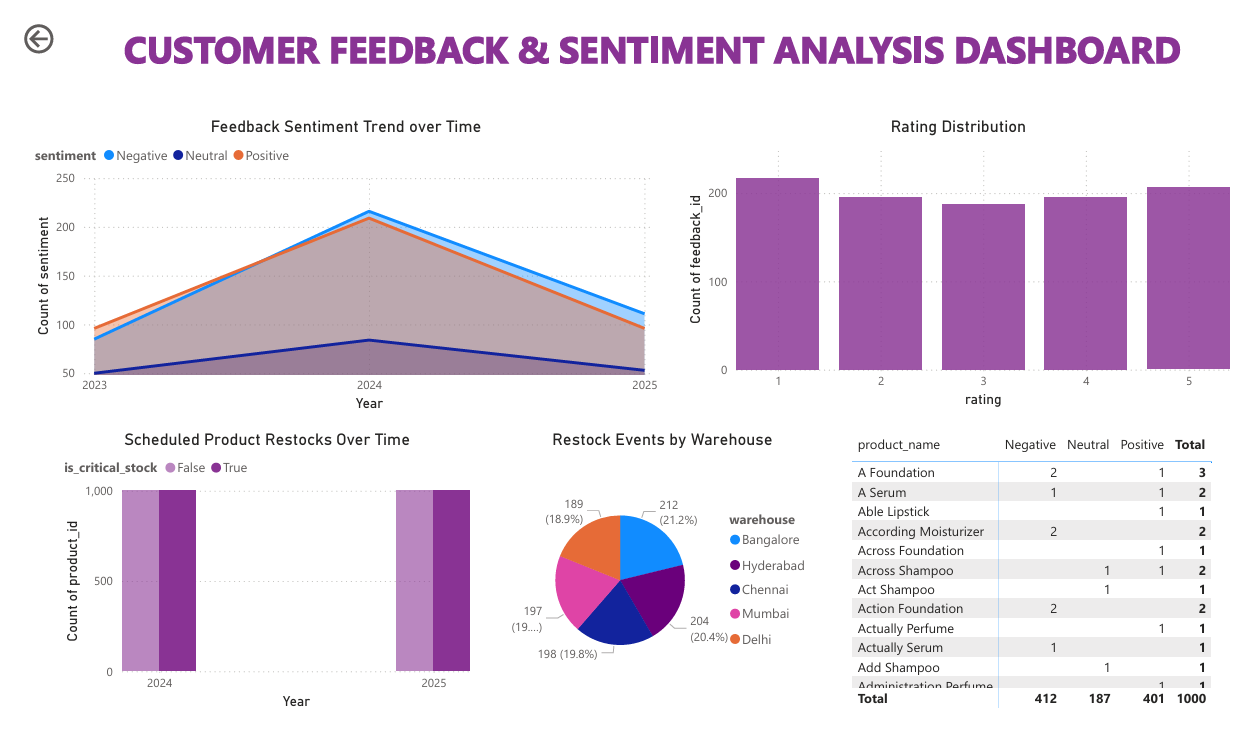

The dashboard page shown, as its layout file describes it:
{"tool":"powerbi","page":{"name":"Page 3","canvas":[1280,720],"ordinal":2},"visuals":[{"type":"textbox","box":[9.6,0,1270.8,74.1],"z":0},{"type":"areaChart","title":"Feedback Sentiment Trend over Time","fields":{"Category":["feedback-2.feedback_date.Variation.Date Hierarchy.Year","feedback-2.feedback_date.Variation.Date Hierarchy.Quarter","feedback-2.feedback_date.Variation.Date Hierarchy.Month","feedback-2.feedback_date.Variation.Date Hierarchy.Day"],"Y":["CountNonNull(feedback-2.sentiment)"],"Series":["feedback-2.sentiment"]},"box":[10.6,99.9,649.6,305.9],"z":1000},{"type":"pivotTable","fields":{"Rows":["products.product_name"],"Columns":["feedback-2.sentiment"],"Values":["CountNonNull(feedback-2.rating)"]},"box":[851,420.9,428.5,290.7],"z":2000},{"type":"columnChart","title":" Rating Distribution","fields":{"Category":["feedback-2.rating"],"Y":["CountNonNull(feedback-2.feedback_id)"]},"box":[681.4,99.9,566.3,302.8],"z":3000},{"type":"clusteredColumnChart","title":"Scheduled Product Restocks Over Time","fields":{"Category":["inventory.restock_date.Variation.Date Hierarchy.Year","inventory.restock_date.Variation.Date Hierarchy.Quarter","inventory.restock_date.Variation.Date Hierarchy.Month","inventory.restock_date.Variation.Date Hierarchy.Day"],"Y":["CountNonNull(products.product_id)"],"Series":["inventory.is_critical_stock"]},"box":[40.9,420.9,427,290.7],"z":4000},{"type":"pieChart","title":"Restock Events by Warehouse","fields":{"Category":["inventory.warehouse"],"Y":["CountNonNull(inventory.product_id)"]},"box":[499.7,420.9,321,290.7],"z":5000},{"type":"actionButton","box":[0,0,100,40],"z":6000}]}

Visuals, with their boxes on the page's 1280x720 design canvas (x1, y1, x2, y2). These are canvas units, not pixel positions in the 1249x733 screenshot, which may show the page scaled, cropped or inside an application window:
textbox: 10 0 1280 74
"Feedback Sentiment Trend over Time" areaChart: 11 100 660 406
pivotTable - products.product_name x feedback-2.sentiment: 851 421 1280 712
" Rating Distribution" columnChart: 681 100 1248 403
"Scheduled Product Restocks Over Time" clusteredColumnChart: 41 421 468 712
"Restock Events by Warehouse" pieChart: 500 421 821 712
actionButton: 0 0 100 40
